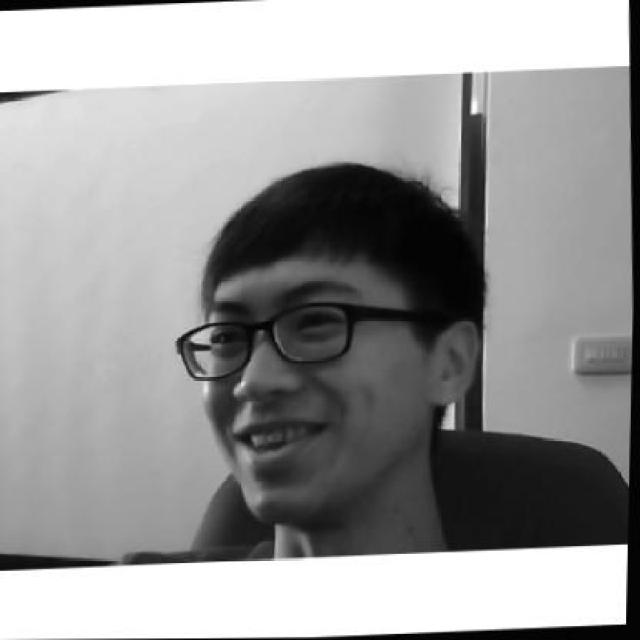attentif: (166, 156, 491, 524)
